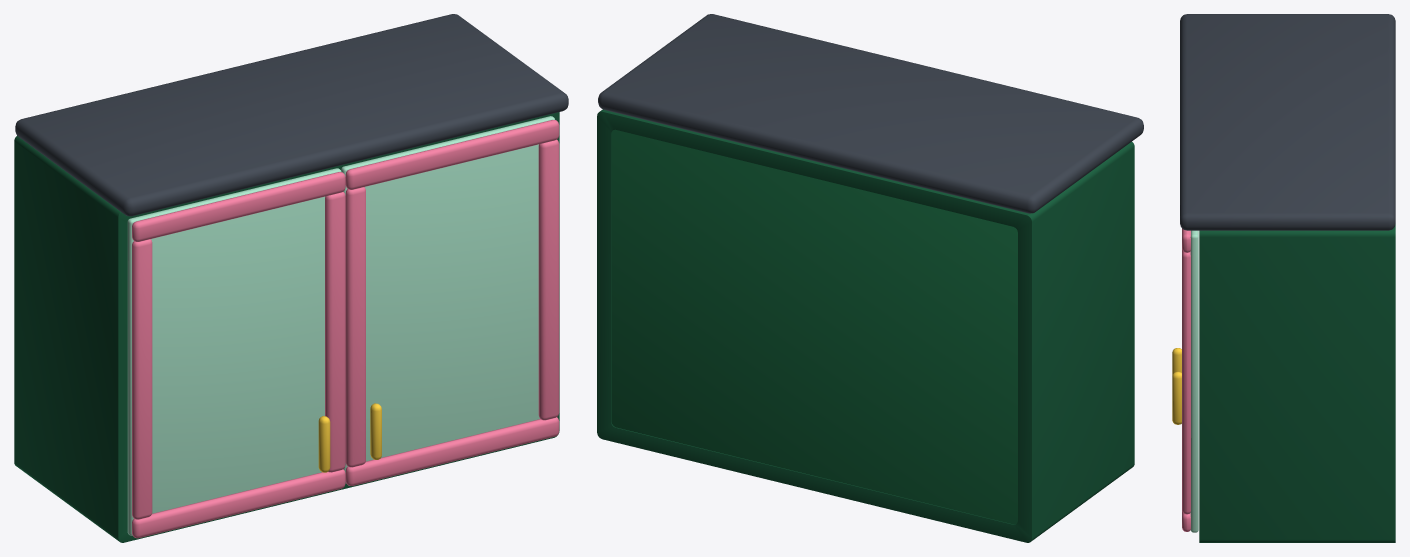
The model's file is armario_parede_2portas_grafite_floresta.glb.
The picture shows the model from 3 angles, left to right: view 1: azimuth 30°, elevation 25°; view 2: azimuth 150°, elevation 25°; view 3: azimuth 270°, elevation 25°; orthographic projection. The views are drawn at different scales.
Visible parts, largest first — view 1: armario_parede_2portas_grafite_floresta, porta_1, porta_2; view 2: armario_parede_2portas_grafite_floresta; view 3: armario_parede_2portas_grafite_floresta, porta_2.
Boxes of the visible parts, x1,y1,x2,y2 form: armario_parede_2portas_grafite_floresta: (14,14,568,542); porta_1: (127,168,345,538); porta_2: (341,116,559,485); armario_parede_2portas_grafite_floresta: (597,14,1143,542); armario_parede_2portas_grafite_floresta: (1180,14,1395,542); porta_2: (1172,228,1198,532).
Size of the model in its own units: 0.798 by 0.6 by 0.3687.
Materials: 1 (1 with a texture image).
